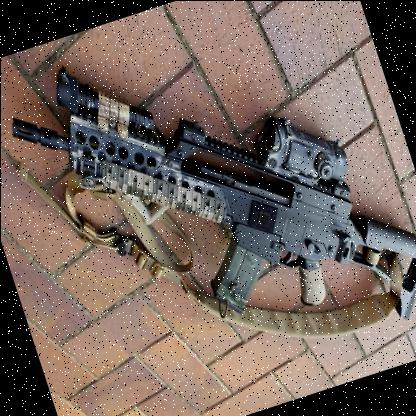rifle: (15, 0, 416, 413)
